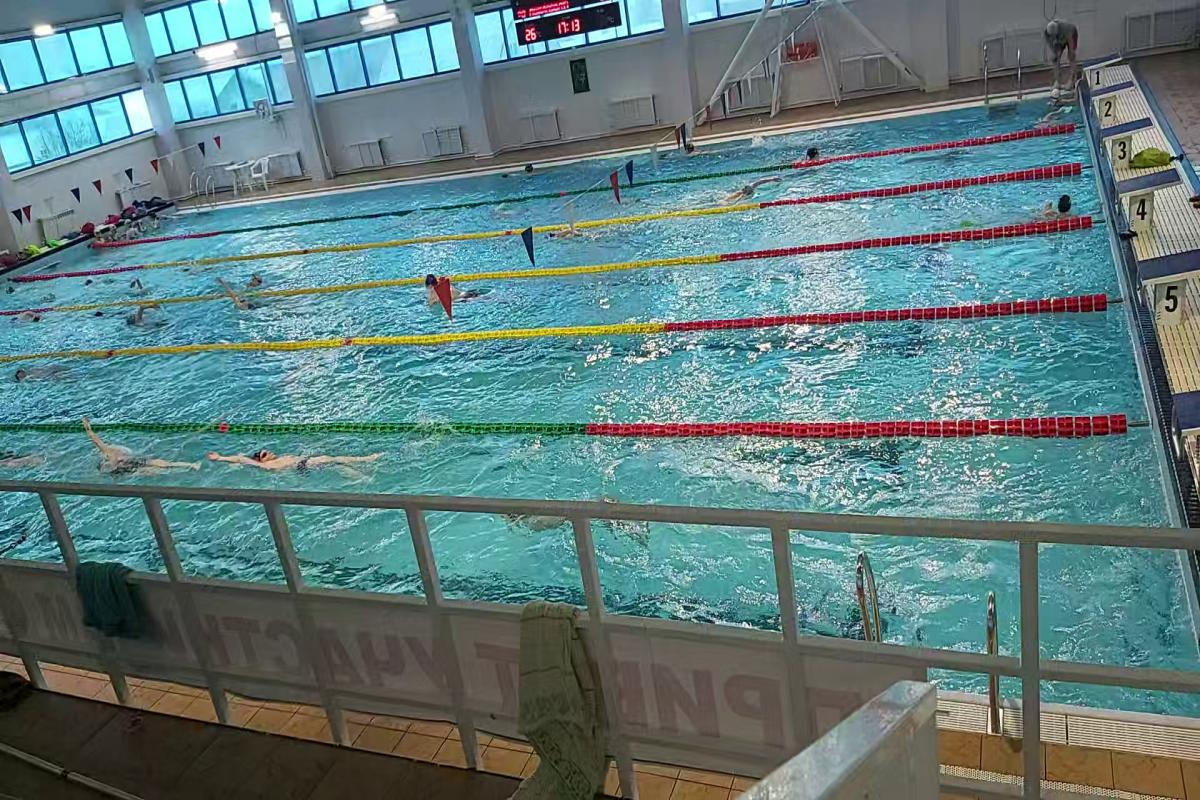swimmer: (208, 445, 386, 485), (76, 429, 202, 483), (417, 268, 503, 308), (213, 276, 278, 321), (714, 175, 784, 206), (11, 360, 78, 388), (1030, 192, 1084, 221), (127, 303, 172, 335), (236, 273, 272, 288)
